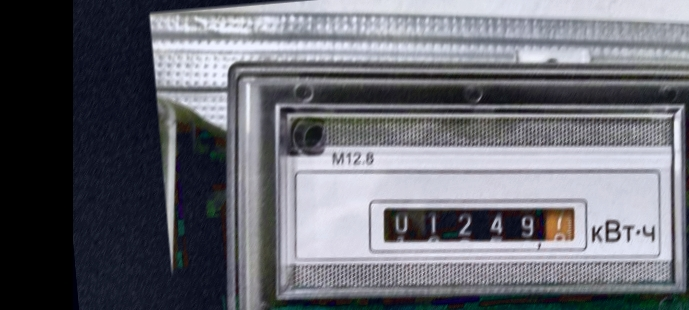0: (393, 207, 412, 235)
1: (425, 208, 441, 235)
2: (455, 211, 474, 238)
4: (488, 209, 506, 235)
7: (552, 204, 569, 232)
9: (517, 211, 537, 239)
screen: (365, 180, 594, 272)
